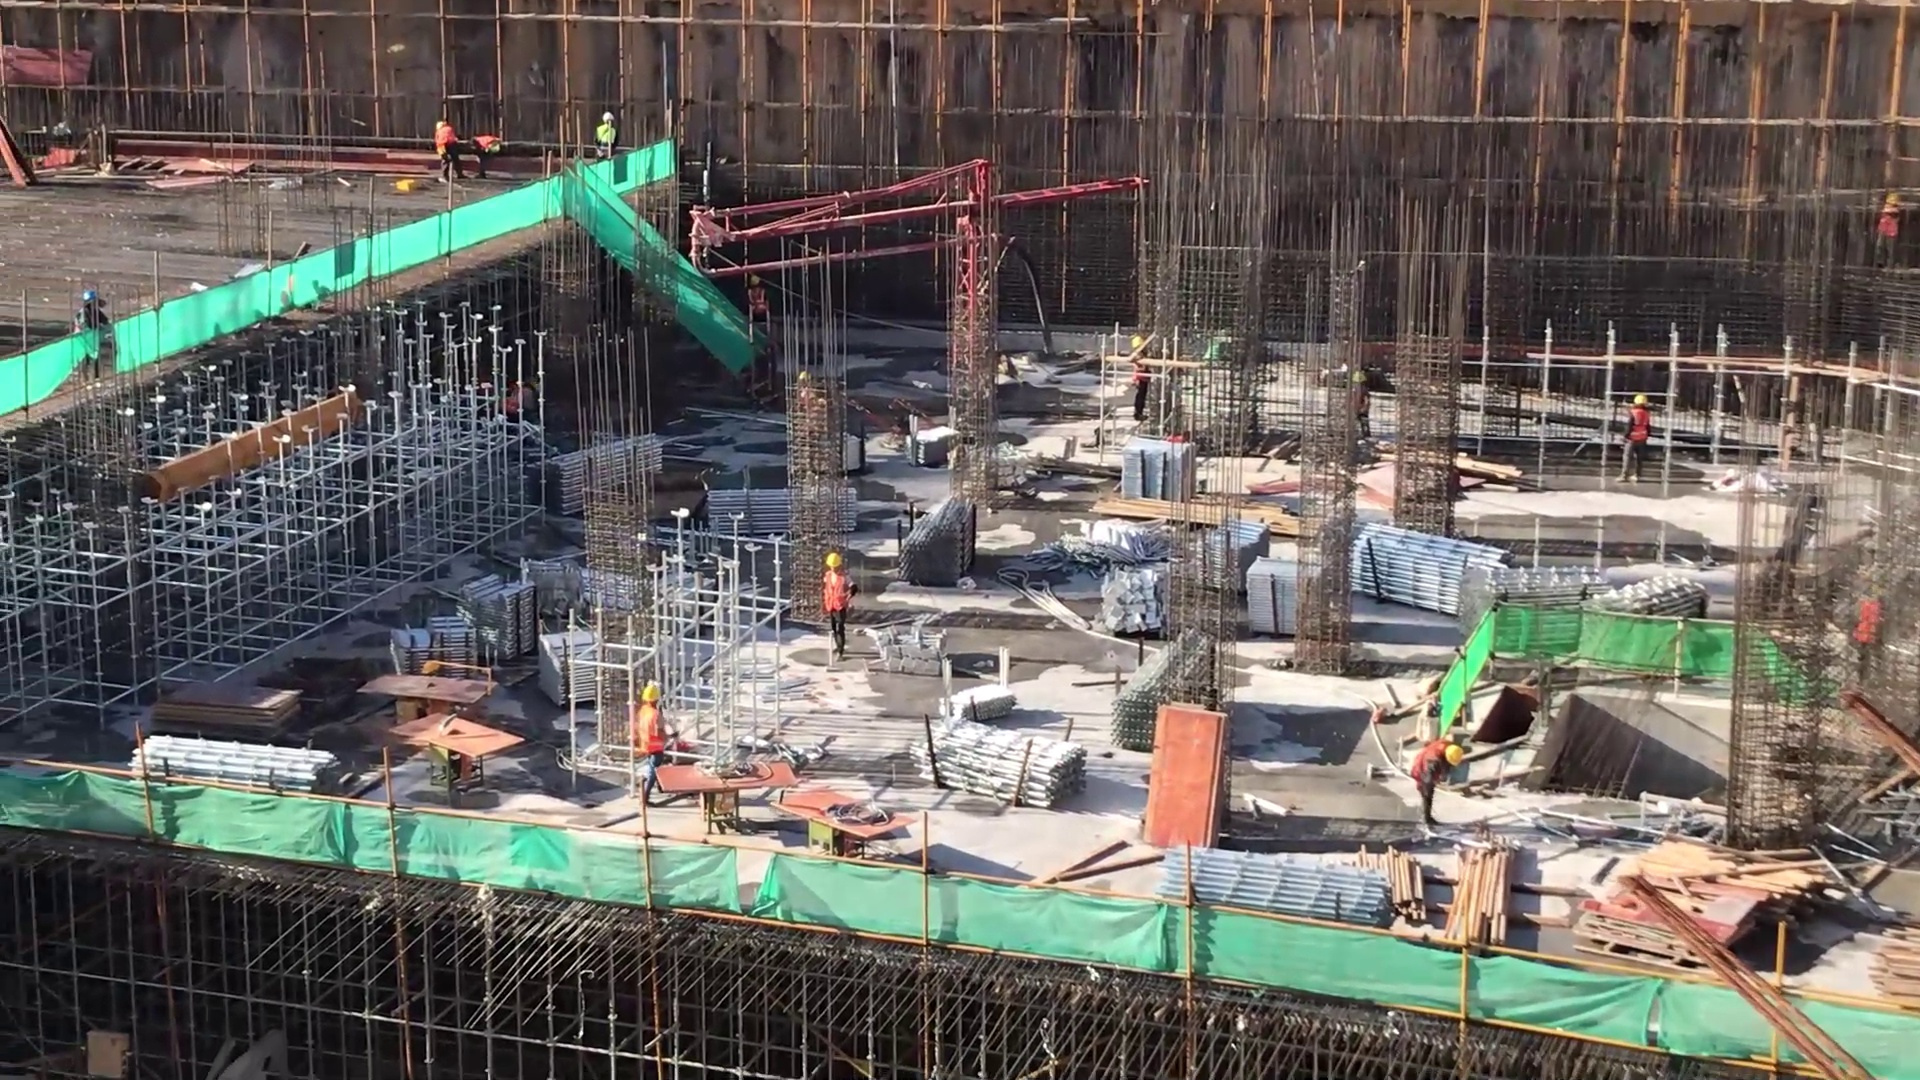board: (1568, 879, 1768, 959), (1143, 699, 1241, 848), (148, 682, 301, 744)
brick: (1101, 564, 1173, 637)
cutter: (650, 745, 800, 842), (772, 782, 915, 878), (386, 705, 521, 805), (360, 665, 504, 744)
helmet: (643, 678, 668, 710), (1442, 744, 1466, 768), (824, 547, 845, 573), (80, 287, 103, 306), (1130, 331, 1149, 352), (1628, 395, 1654, 407), (749, 269, 764, 288), (600, 109, 616, 122)
person: (1407, 727, 1463, 852), (1607, 397, 1663, 494), (634, 682, 675, 811), (821, 546, 859, 672), (77, 286, 115, 387), (1126, 322, 1160, 432), (745, 268, 774, 365), (429, 118, 464, 193), (462, 130, 510, 183), (588, 108, 626, 175)
scaffold: (1143, 838, 1415, 944), (1565, 566, 1725, 700), (911, 713, 1101, 808), (106, 738, 344, 808), (1348, 522, 1517, 612), (1109, 626, 1223, 758), (1462, 559, 1607, 655), (538, 425, 683, 520), (706, 480, 864, 539), (886, 493, 981, 588), (455, 571, 543, 672), (538, 626, 618, 712), (387, 614, 477, 688), (1191, 521, 1278, 596)
vest: (1411, 740, 1451, 787), (637, 706, 667, 758), (822, 571, 853, 618), (1623, 407, 1653, 444), (474, 132, 501, 158), (431, 126, 459, 151), (596, 121, 619, 151)
wood: (1859, 929, 1920, 1004)
